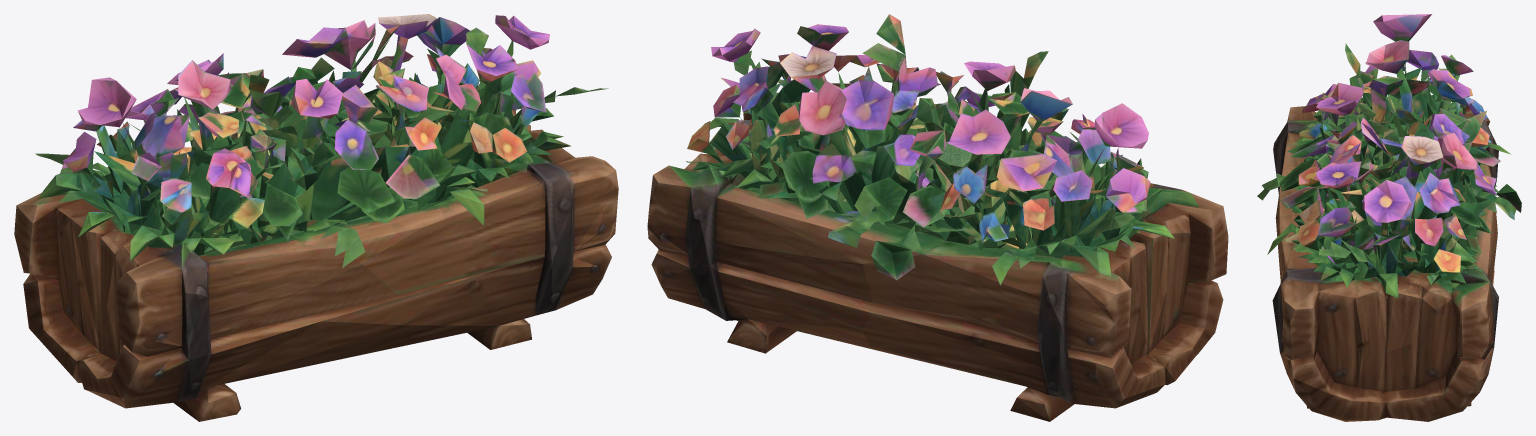
File: planter.fbx
The picture shows the model from 3 angles, left to right: view 1: azimuth 30°, elevation 25°; view 2: azimuth 150°, elevation 25°; view 3: azimuth 270°, elevation 25°; orthographic projection. The views are drawn at different scales.
Visible parts, largest first — view 1: planter; view 2: planter; view 3: planter.
Boxes of the visible parts, bbox=[...] form: planter: bbox=[14, 14, 618, 421]; planter: bbox=[647, 14, 1228, 421]; planter: bbox=[1257, 14, 1521, 421].
Bounding box in the file's own units: 1.81 × 1.1 × 0.9979.
